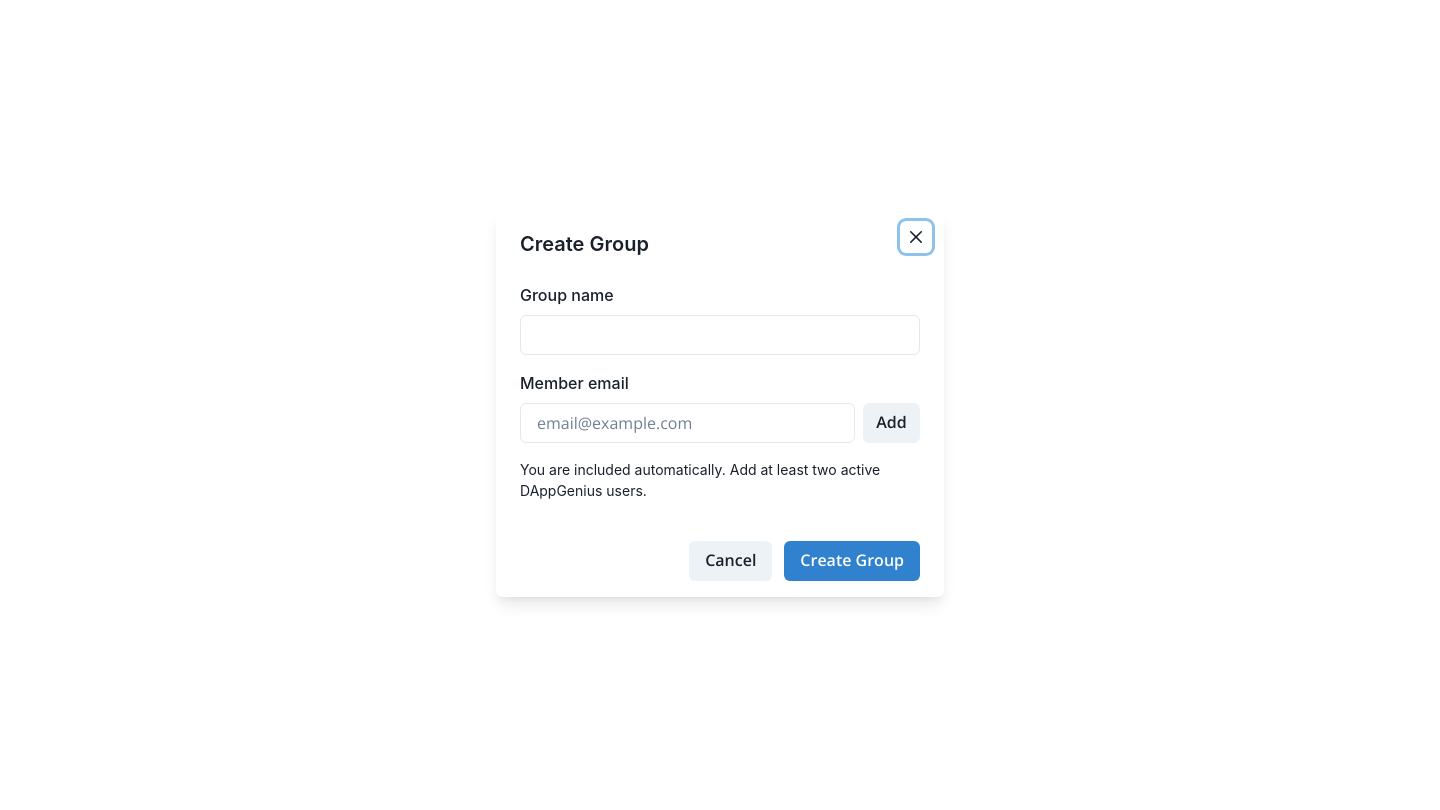
Test: server validation errors stay visible without closing dialog
Type "Team" into the field labelled "Group name" at [720, 335], box [520,315,920,355]
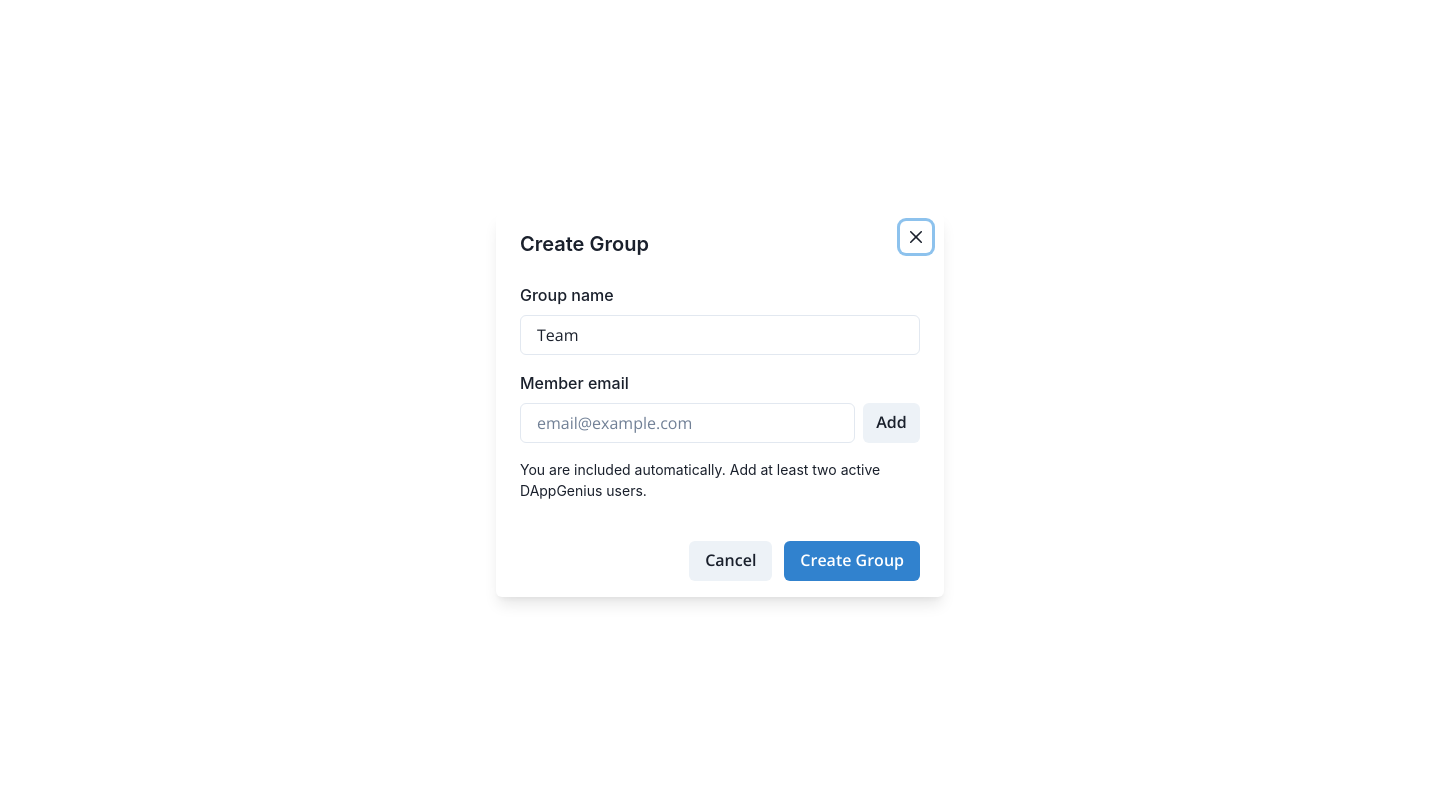
Type "alice@example.com" into the field labelled "Member email" at [687, 423], box [520,403,855,443]
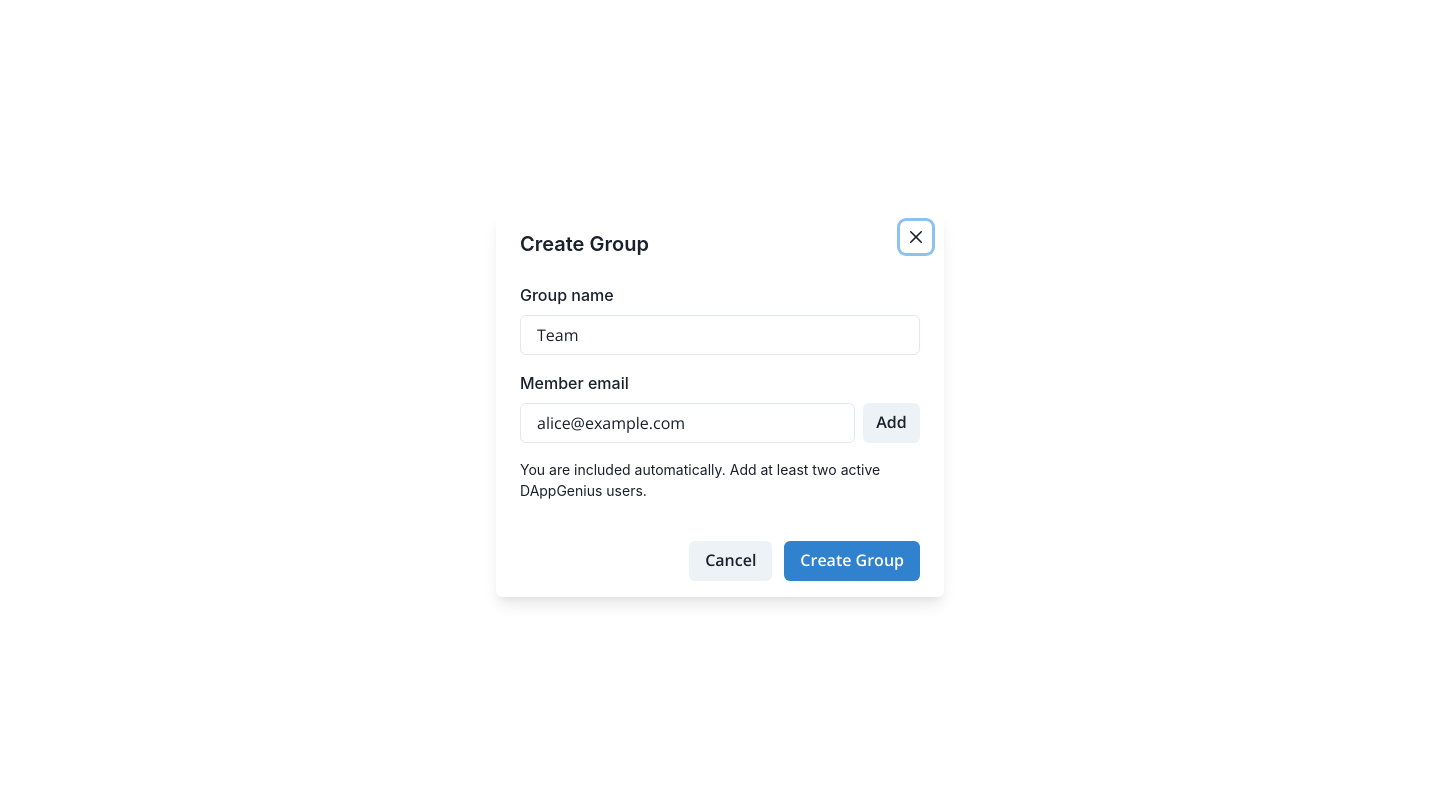
Click the button "Add" at [891, 423], box [863,403,920,443]
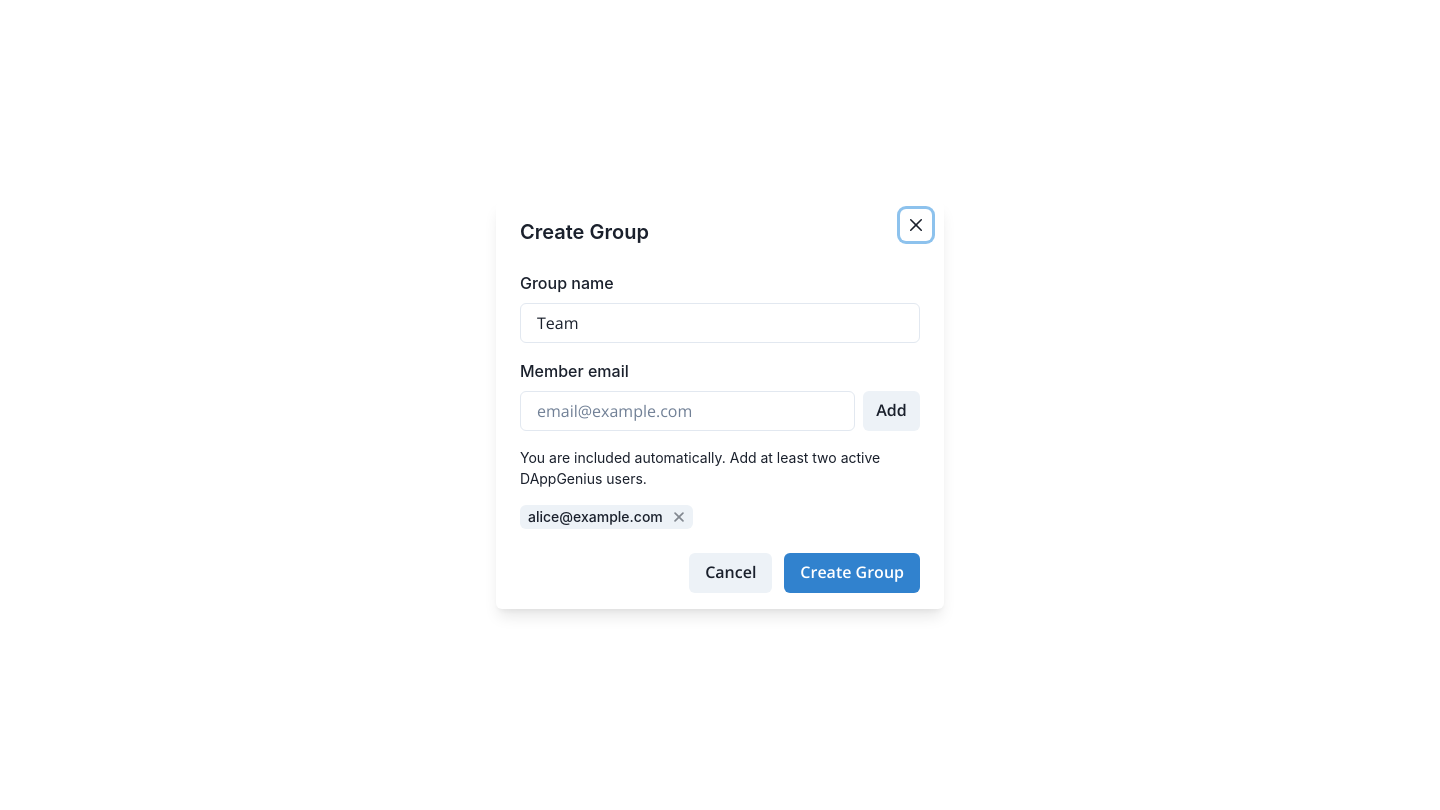
Type "bob@example.com" into the field labelled "Member email" at [687, 411], box [520,391,855,431]
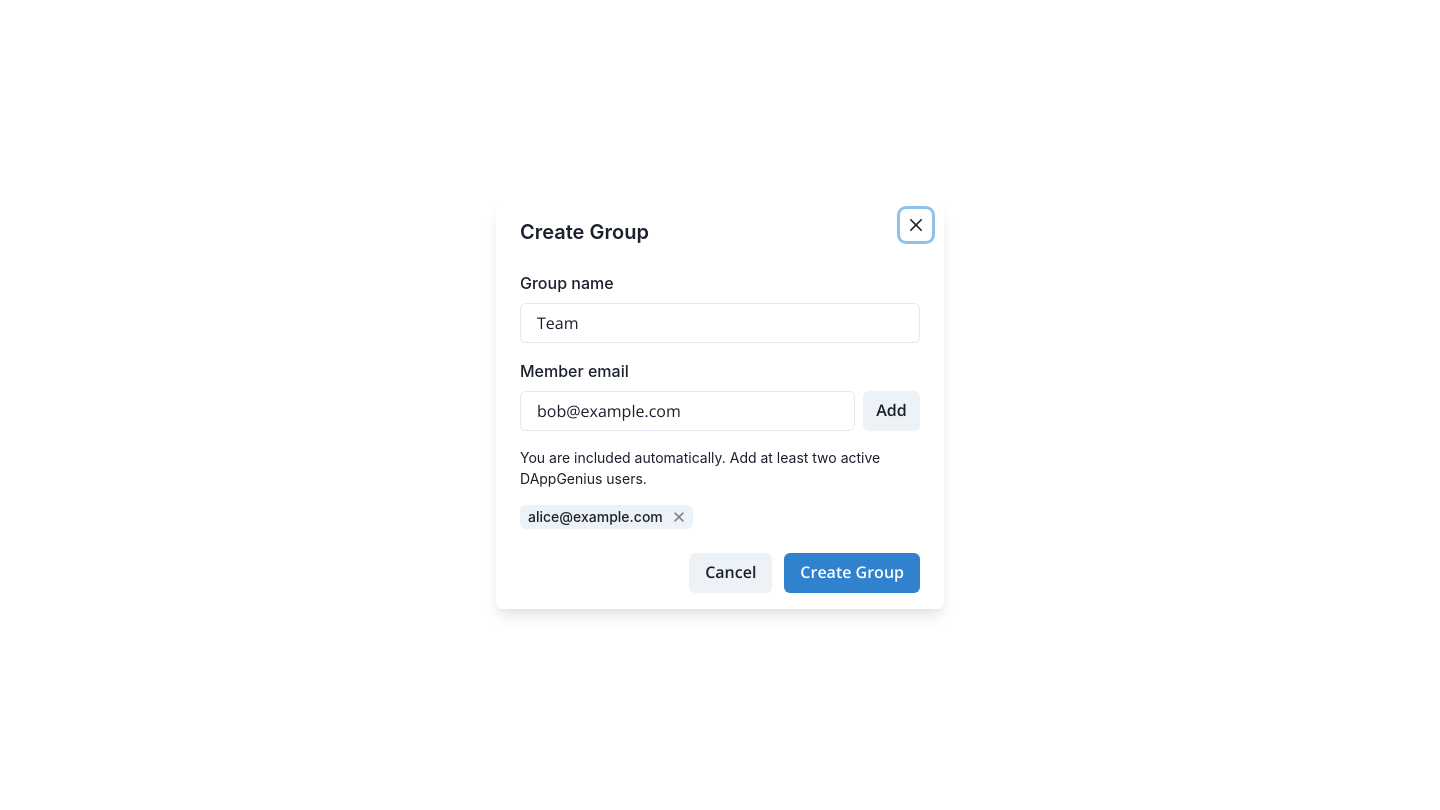
Click the button "Add" at [891, 411], box [863,391,920,431]
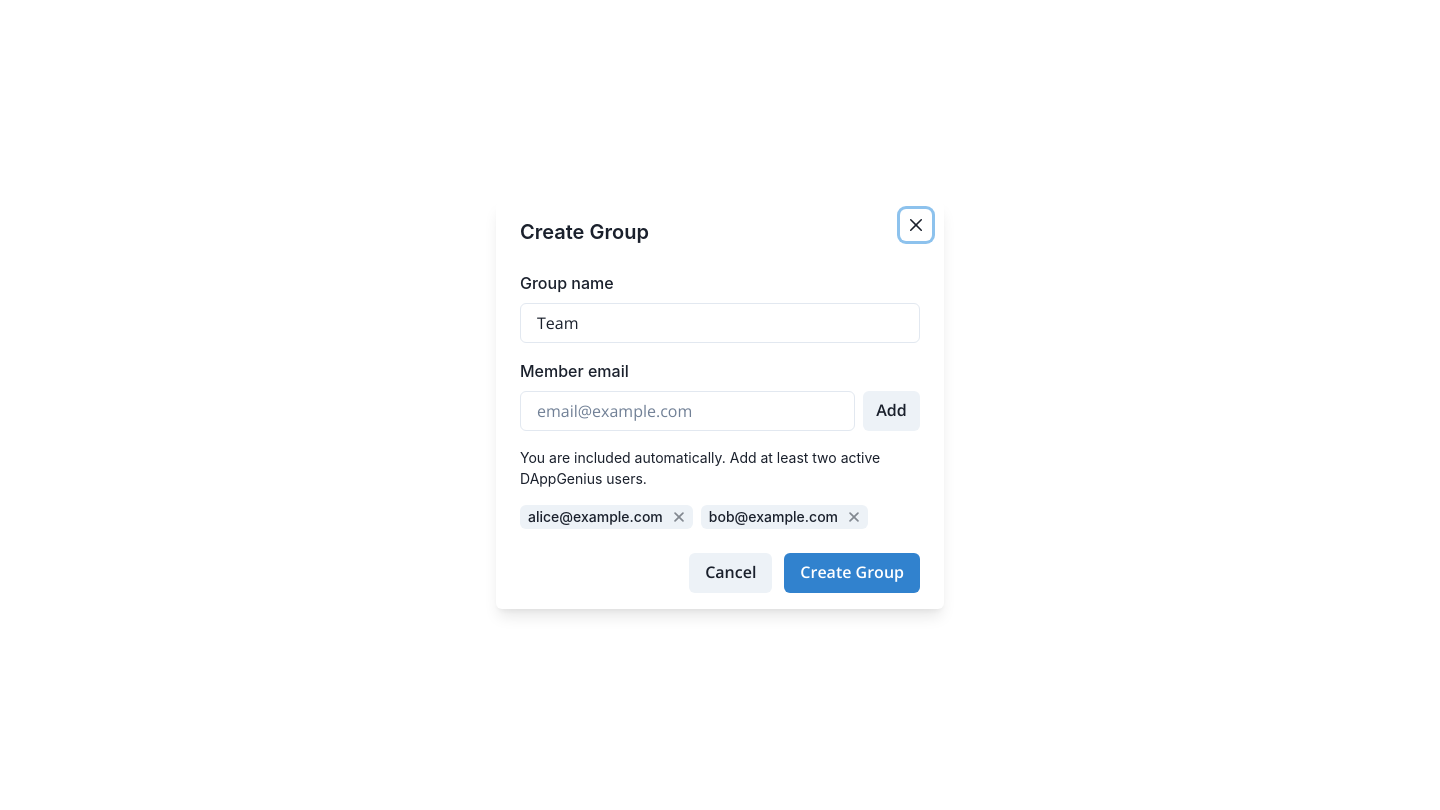
Click the button "Create Group" at [852, 573], box [784,553,920,593]
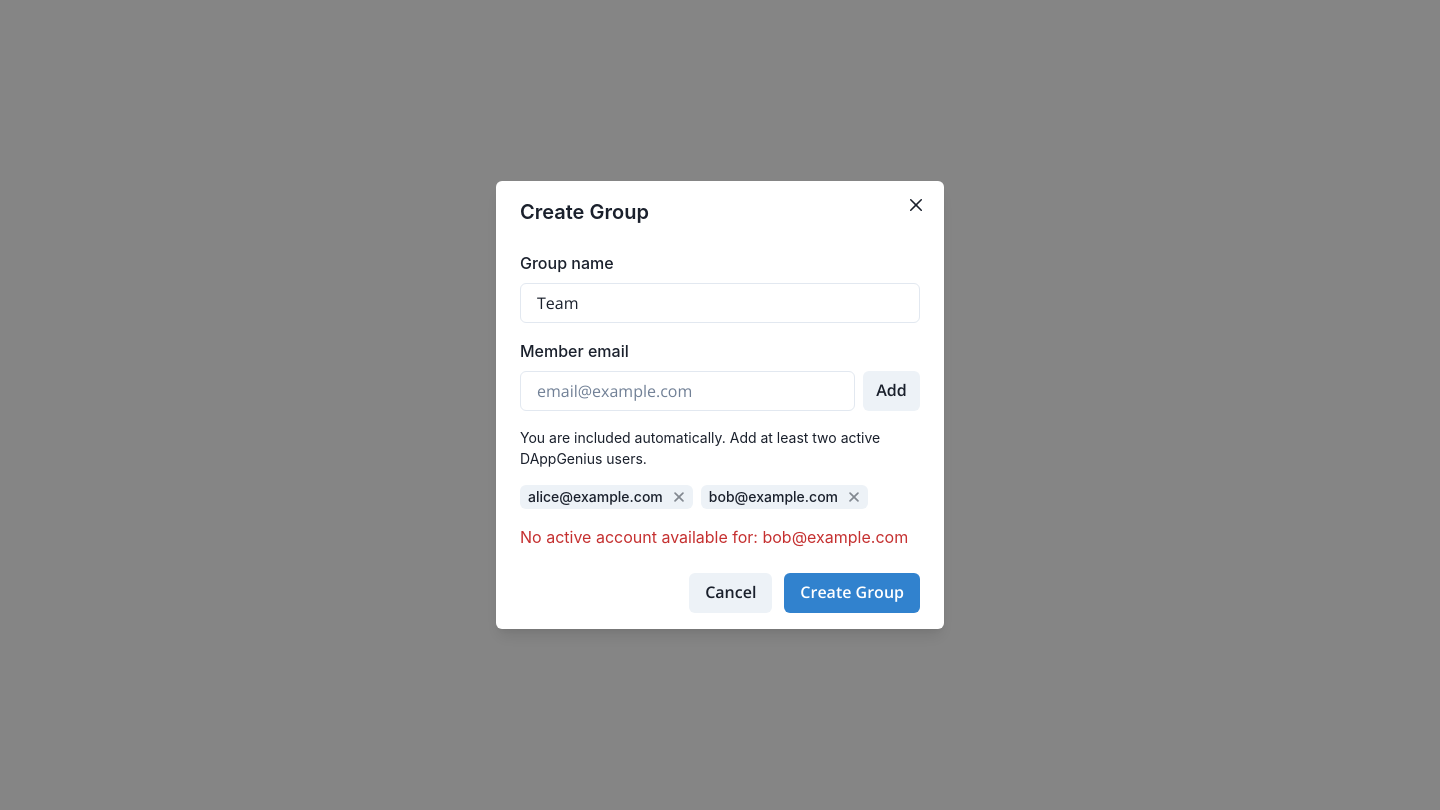
Expected: the message shows "bob@example.com", [520,527,908,547]
